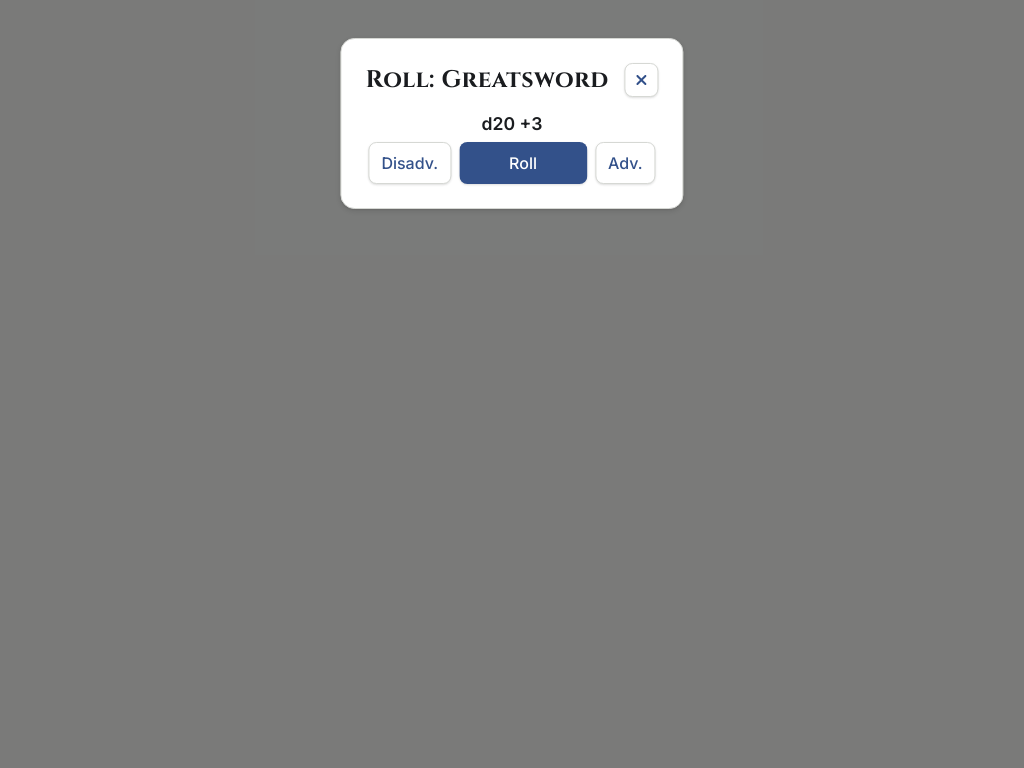
Test: RollModal — cast conditions › rolls the blessing d4 into a saving throw on its own
The width and height of the screenshot is (1024, 768).
Note: No tick needed: saves are exactly what Bless touches.
Click the button "Roll": (523, 163) [459,142,587,184]
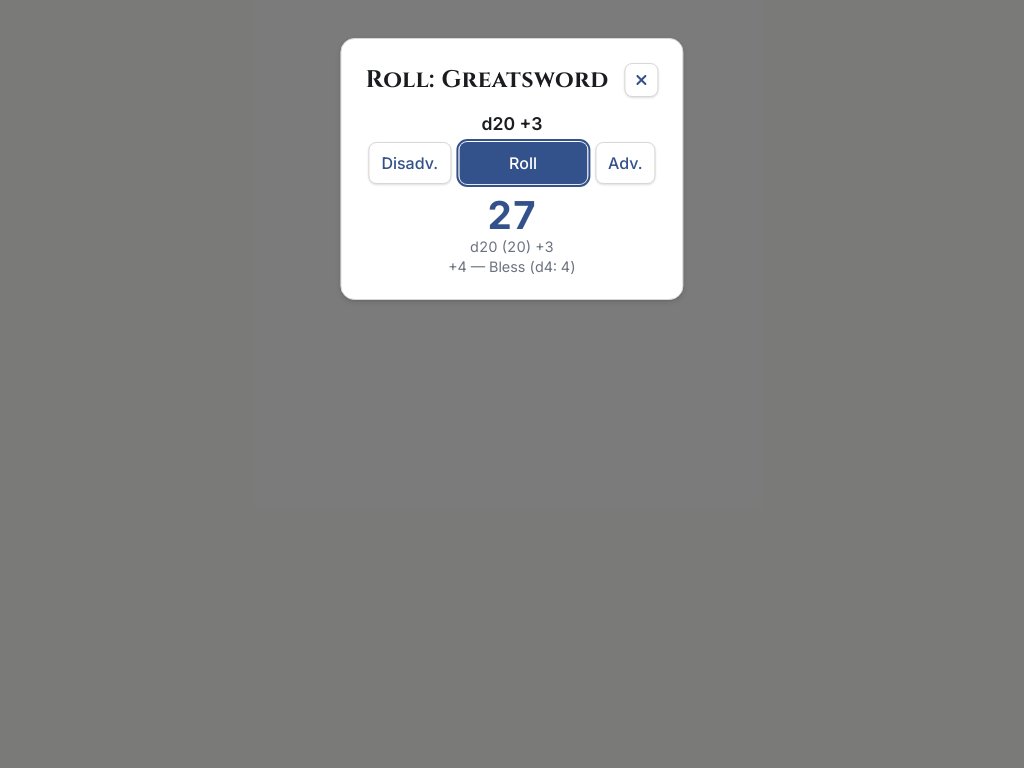
Expected: the text "+4 — Bless (d4: 4)" is shown, [448,258,576,275]
